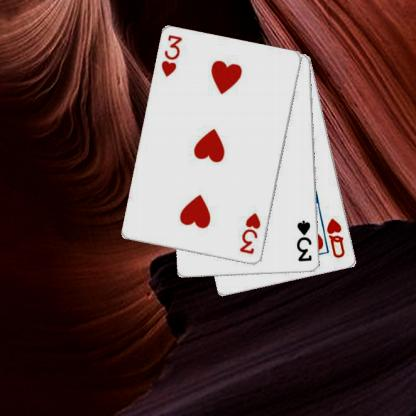3H: (237, 210, 262, 256), (159, 32, 183, 78)
3S: (294, 218, 314, 263)
QH: (324, 216, 346, 260)
